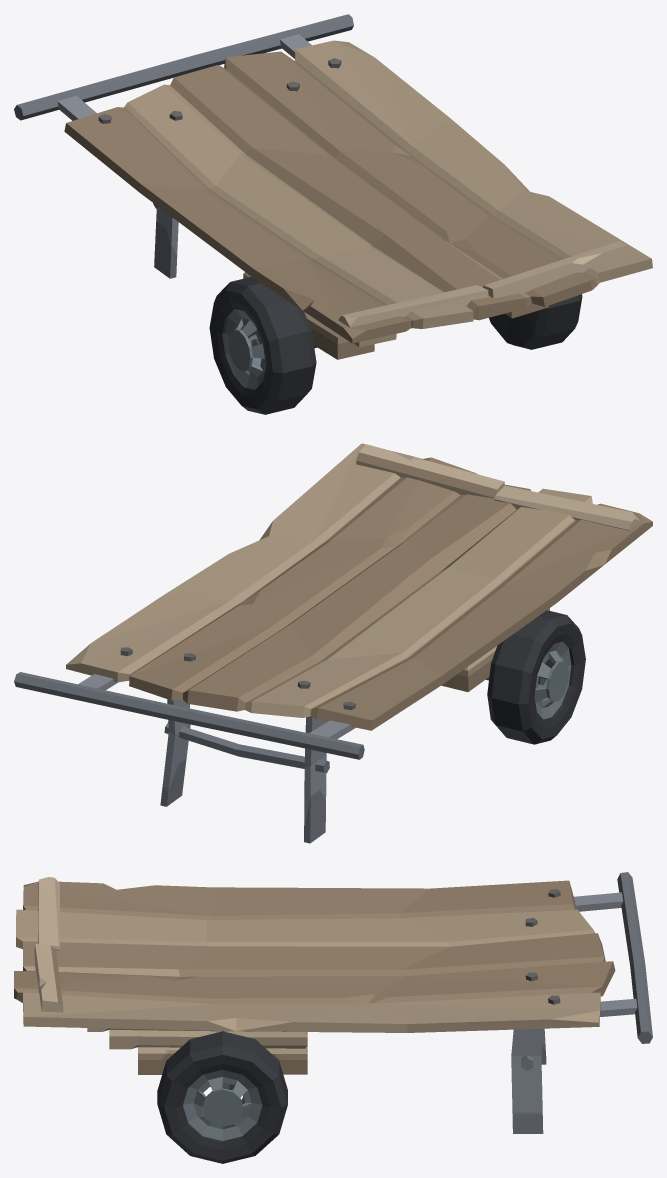
File: SM_Prop_Cart_Wood_01.fbx
3 views of the same model, one above another, from view 1: azimuth 30°, elevation 25°; view 2: azimuth 150°, elevation 25°; view 3: azimuth 270°, elevation 25° (orthographic). The views are drawn at different scales.
Parts seen in each view (by area): view 1: SM_Prop_Cart_Wood_01, SM_Prop_Cart_Wood_WHeel_r, SM_Prop_Cart_Wood_WHeel_l; view 2: SM_Prop_Cart_Wood_01, SM_Prop_Cart_Wood_WHeel_r; view 3: SM_Prop_Cart_Wood_01, SM_Prop_Cart_Wood_WHeel_l.
Part boxes in pixels (x1,y1,x2,y2): SM_Prop_Cart_Wood_01: [14, 14, 652, 359]; SM_Prop_Cart_Wood_WHeel_r: [209, 276, 316, 414]; SM_Prop_Cart_Wood_WHeel_l: [489, 294, 582, 349]; SM_Prop_Cart_Wood_01: [14, 443, 652, 843]; SM_Prop_Cart_Wood_WHeel_r: [487, 610, 585, 744]; SM_Prop_Cart_Wood_01: [14, 872, 652, 1133]; SM_Prop_Cart_Wood_WHeel_l: [157, 1031, 287, 1163].
Bounding box in the file's own units: 229 × 106 × 389.
